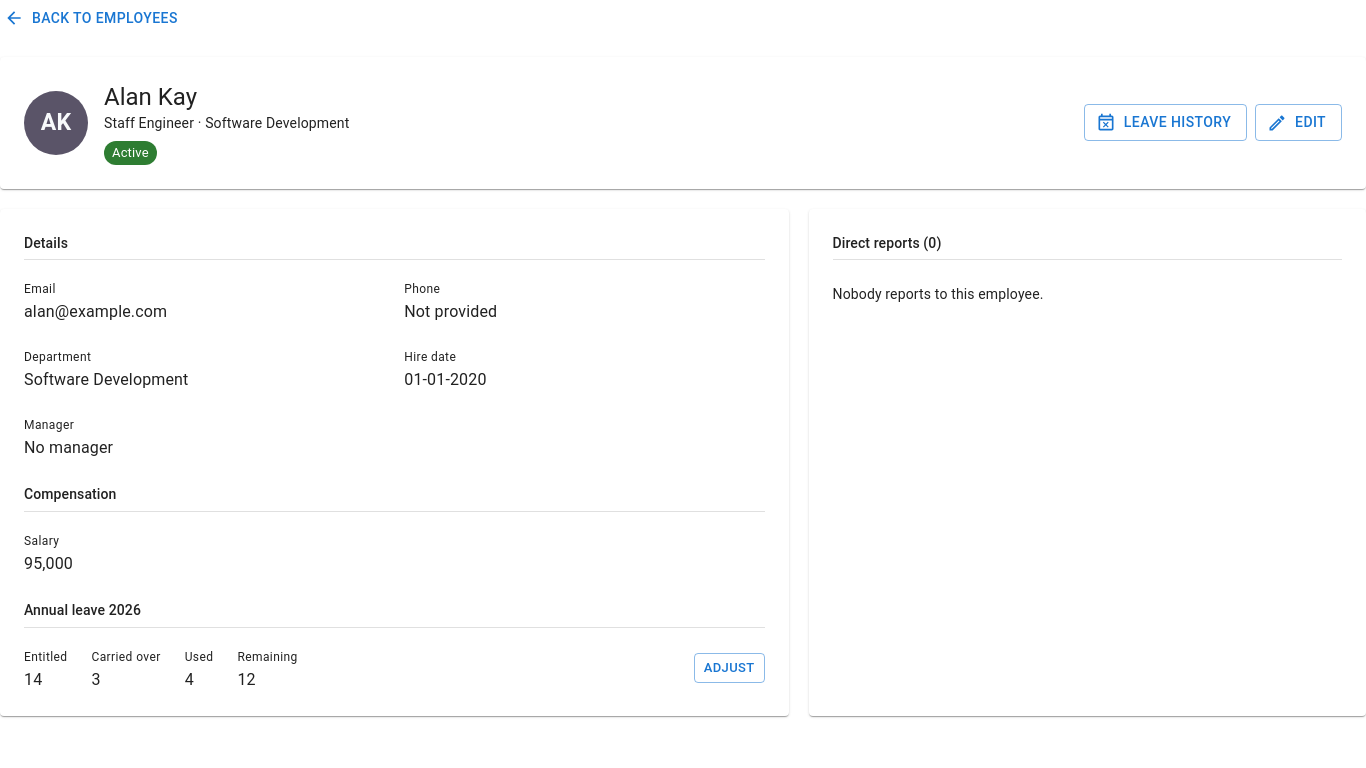
Test: EmployeeDetailPage › refuses to save without a reason
Click the button "Adjust" at [729, 668], box [694, 653, 764, 684]
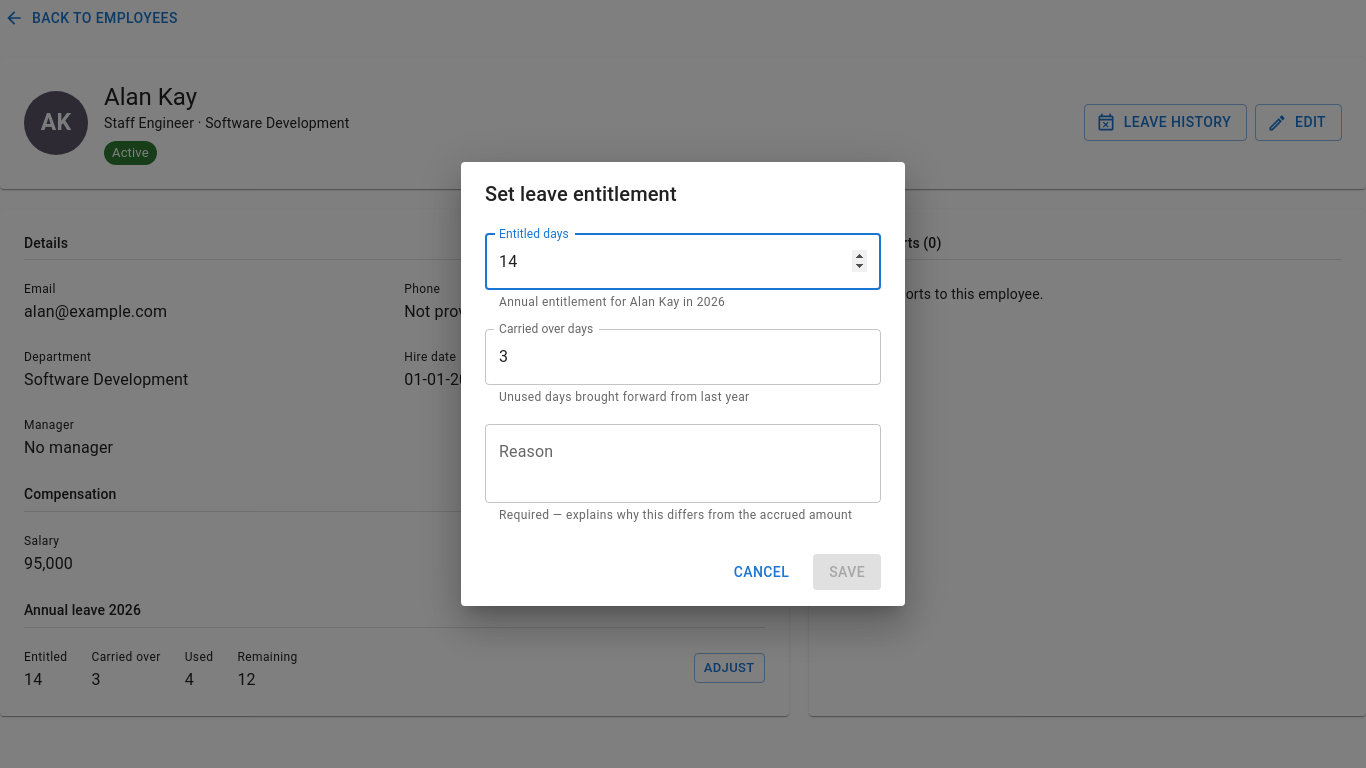
Now the button "Save" is disabled, box [813, 554, 881, 590]
